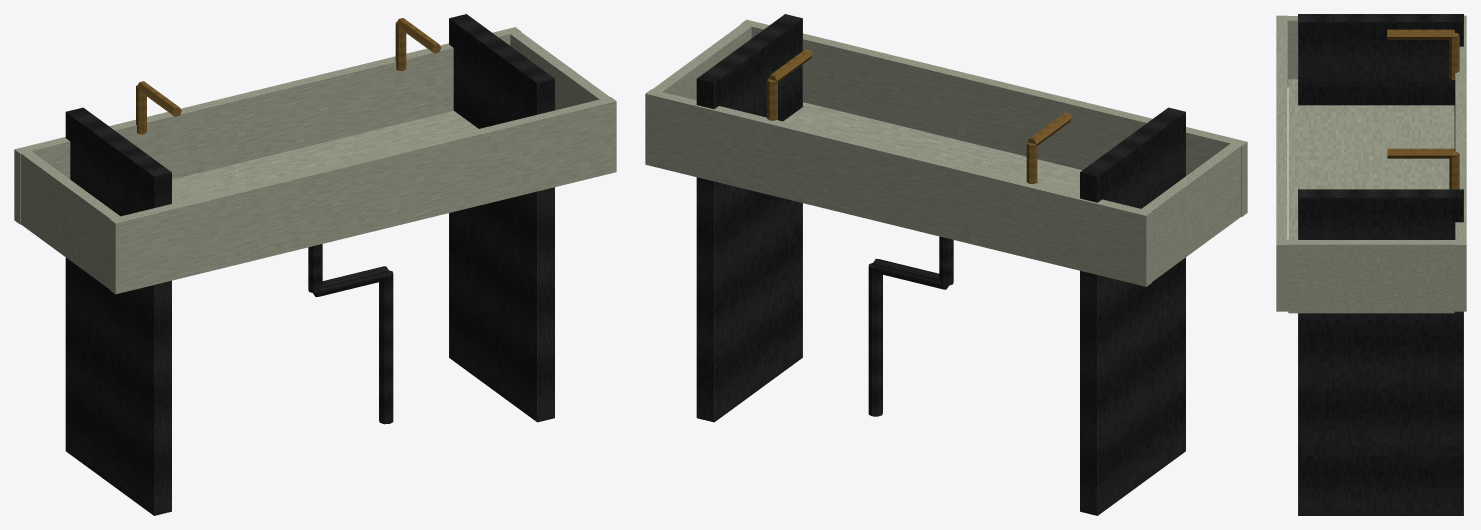
Rendered from level_trace_wash_trough.glb.
3 renders of one model, left to right at view 1: azimuth 30°, elevation 25°; view 2: azimuth 150°, elevation 25°; view 3: azimuth 270°, elevation 25°, orthographic. The views are drawn at different scales.
Parts seen in each view (by area): view 1: level_trace_wash_trough; view 2: level_trace_wash_trough; view 3: level_trace_wash_trough.
Part boxes in pixels (left/top/right/bottom): level_trace_wash_trough: left=14, top=14, right=616, bottom=515; level_trace_wash_trough: left=645, top=14, right=1247, bottom=515; level_trace_wash_trough: left=1276, top=14, right=1466, bottom=515.
Size of the model in its own units: 1.7 by 1.15 by 0.595.
3 materials, 3 textured.
